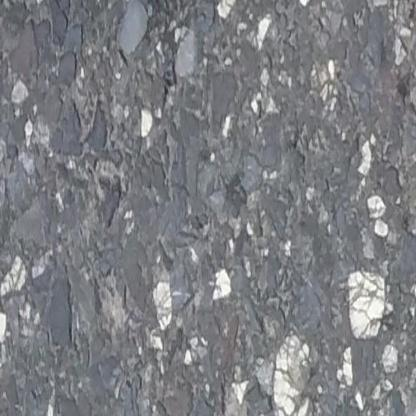Cracks: (137, 0, 216, 50)
